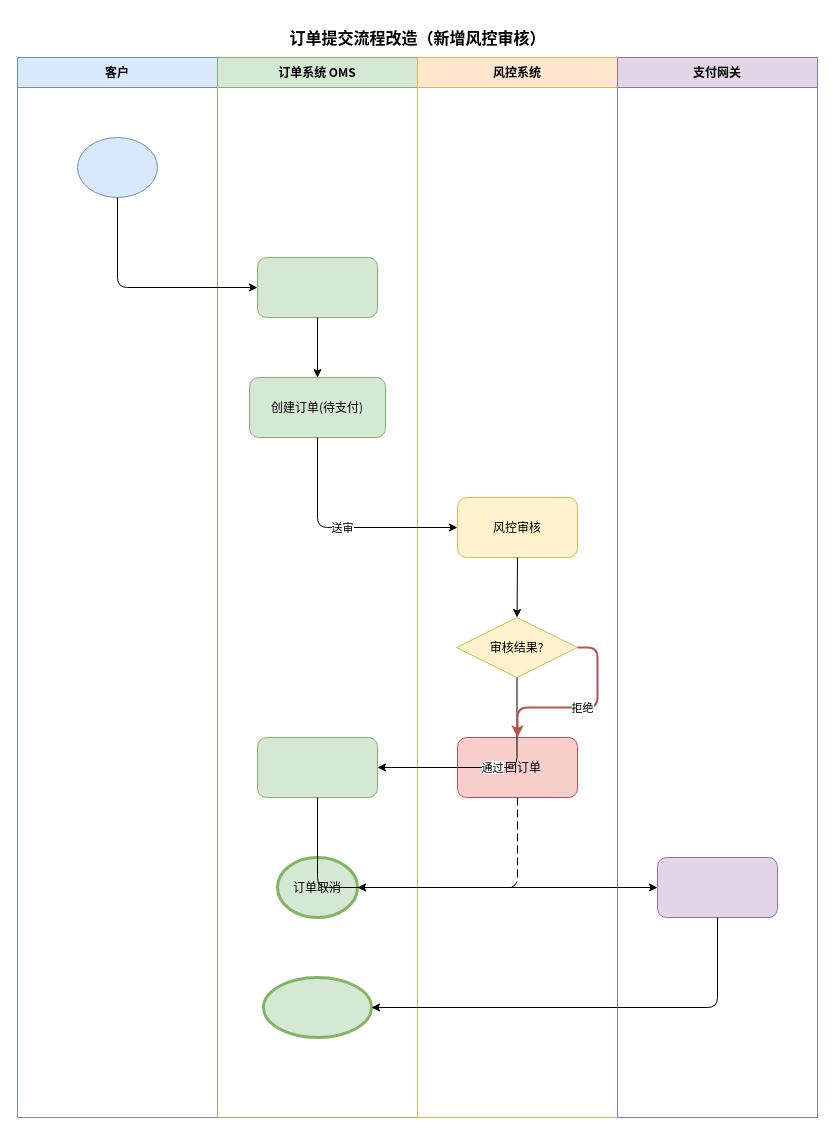
Some shapes in this 835 by 1135 pixel diagram are drawn without their labels. The shapes that lost their labels are listed below. From the top down, each one's centre as x and y in pixels, then its label:
(x=117, y=167): 提交订单
(x=317, y=287): 校验商品库存
(x=317, y=767): 发起支付
(x=717, y=887): 支付确认
(x=317, y=1007): 订单完成支付
